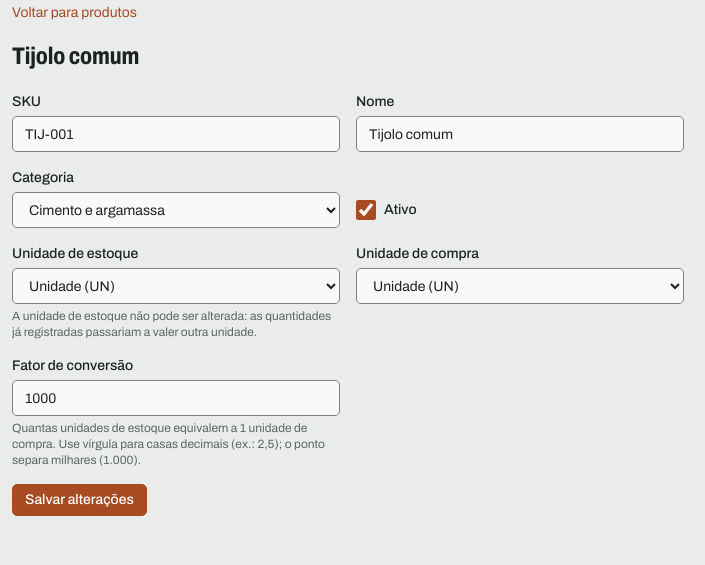
it: ProductDetailScreen › updates the product and its unit conversion together
Replace the text in the field labelled "Nome" with "Tijolo 8 furos": (520, 134) x1=356 y1=116 x2=684 y2=152
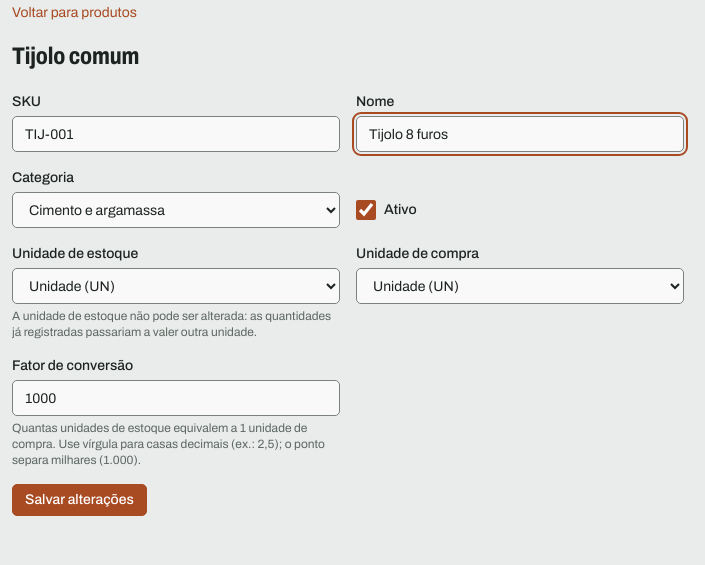
Click the button "Salvar alterações": (79, 500) x1=12 y1=484 x2=147 y2=516
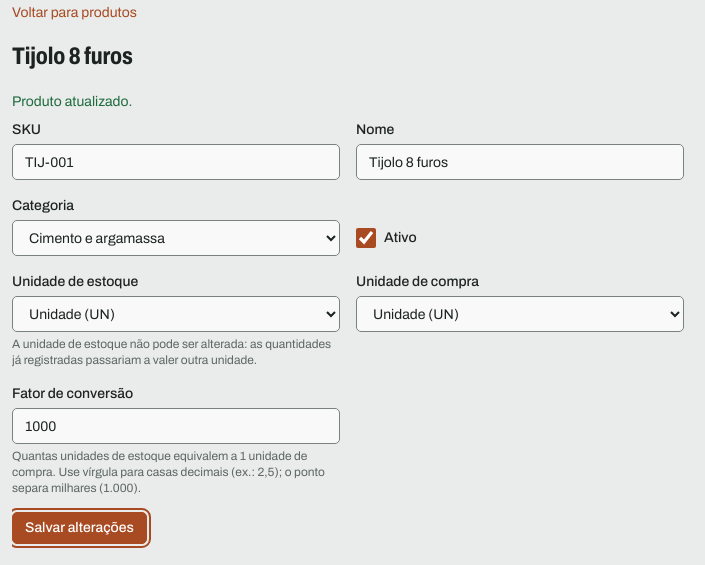
Expected: the message reads "Produto atualizado.", x1=12 y1=94 x2=132 y2=109
